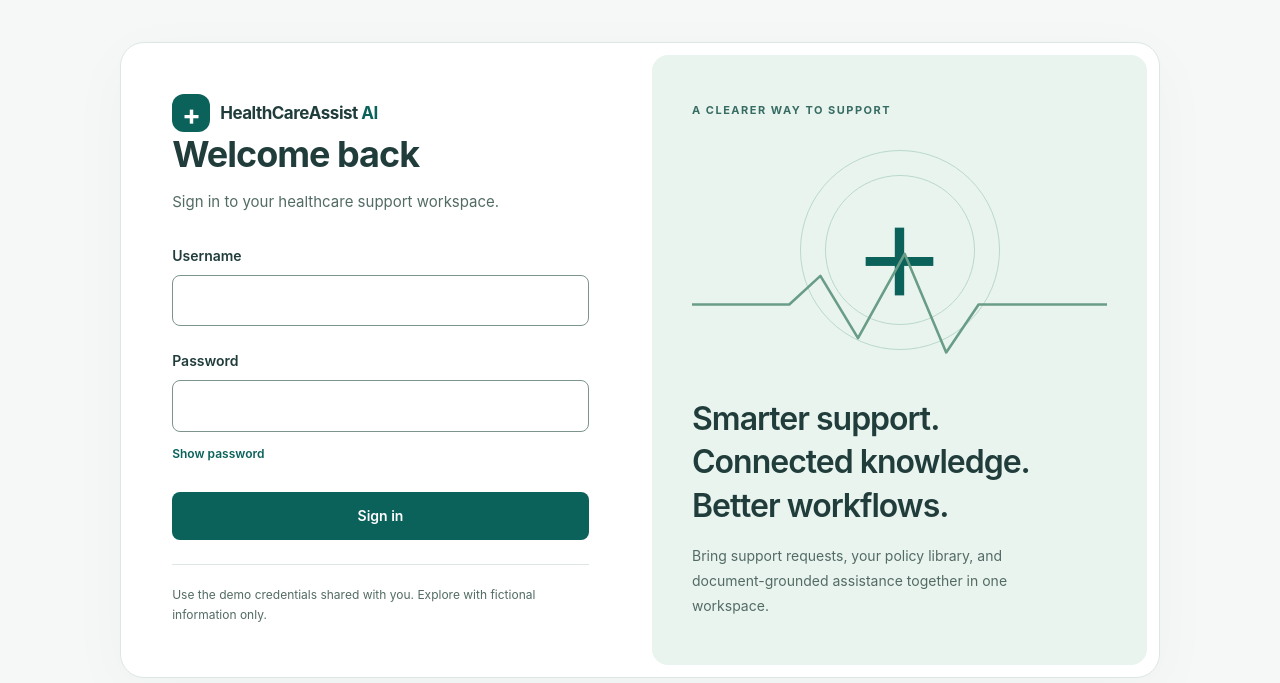
Test: server-backed demo authentication › renders accessible fields and password masking without persisting credentials
Check: the heading "Welcome back" is shown, box left=172, top=132, right=419, bottom=176
In the field labelled "Username": (380,301) left=172, top=275, right=589, bottom=326, type "fictional-reviewer"
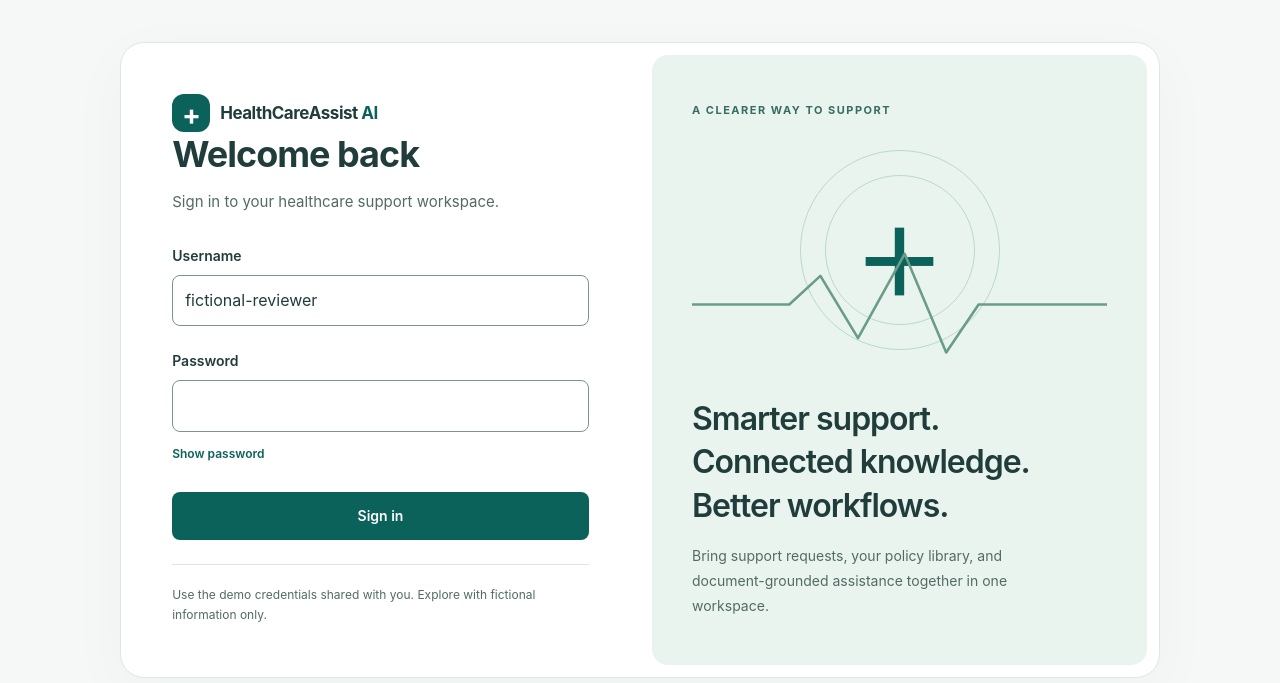
In the password field labelled "Password": (380,406) left=172, top=380, right=589, bottom=432, type "synthetic-input-only"
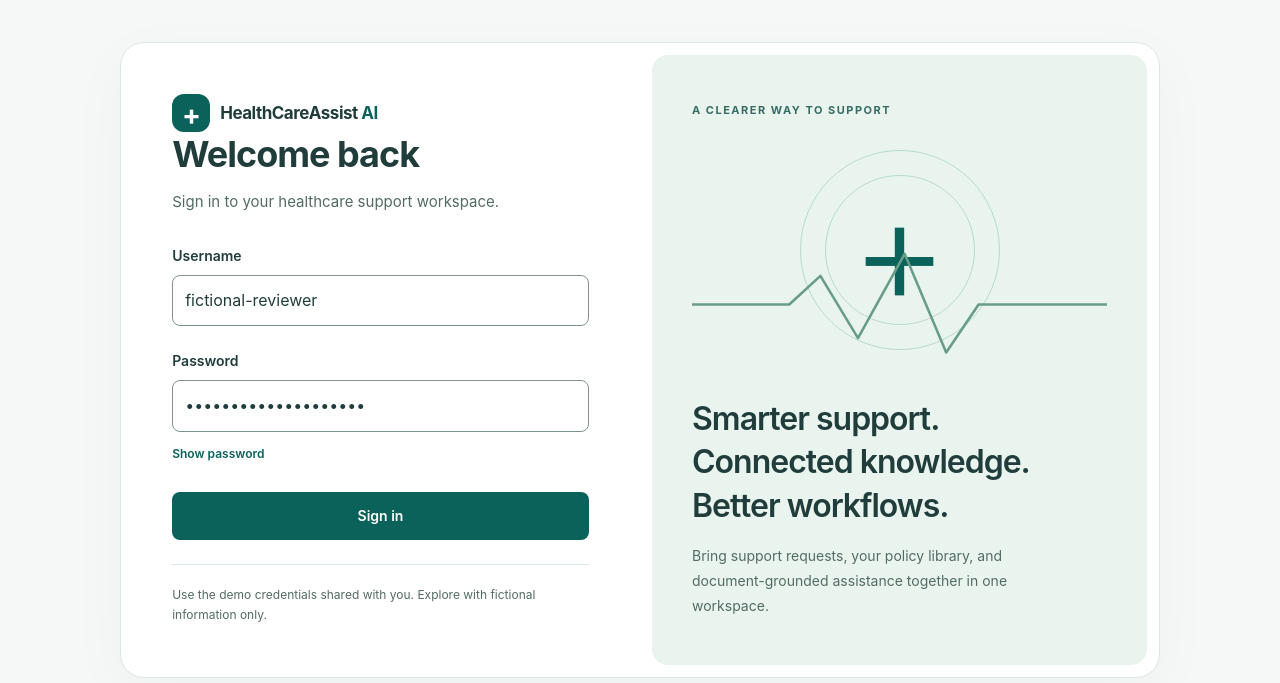
Submit the form named "Demo sign in", box left=172, top=245, right=589, bottom=540
(page scrolled)
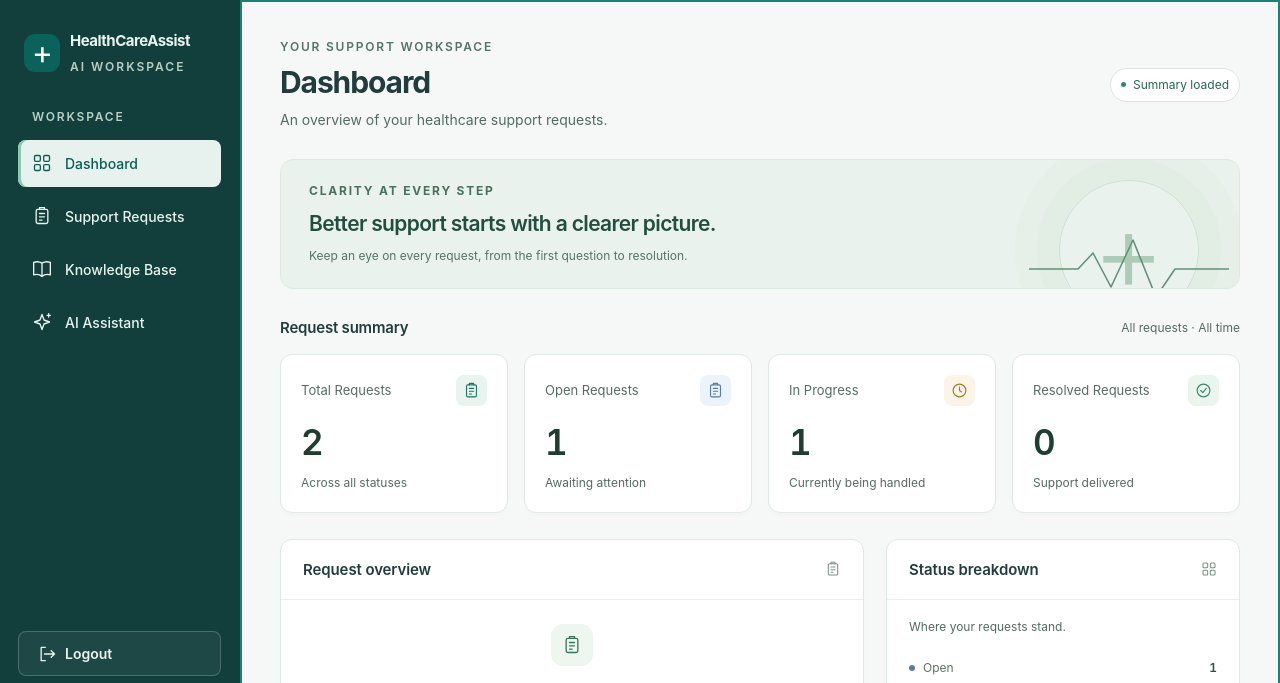
Check: the heading "Dashboard" is shown, box left=280, top=64, right=430, bottom=100
